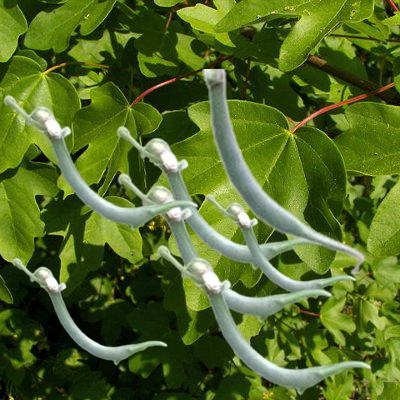french_bean: (202, 69, 364, 275), (117, 172, 331, 322), (156, 244, 370, 394), (116, 125, 322, 269), (3, 94, 197, 230), (12, 257, 166, 364), (205, 193, 355, 298)
